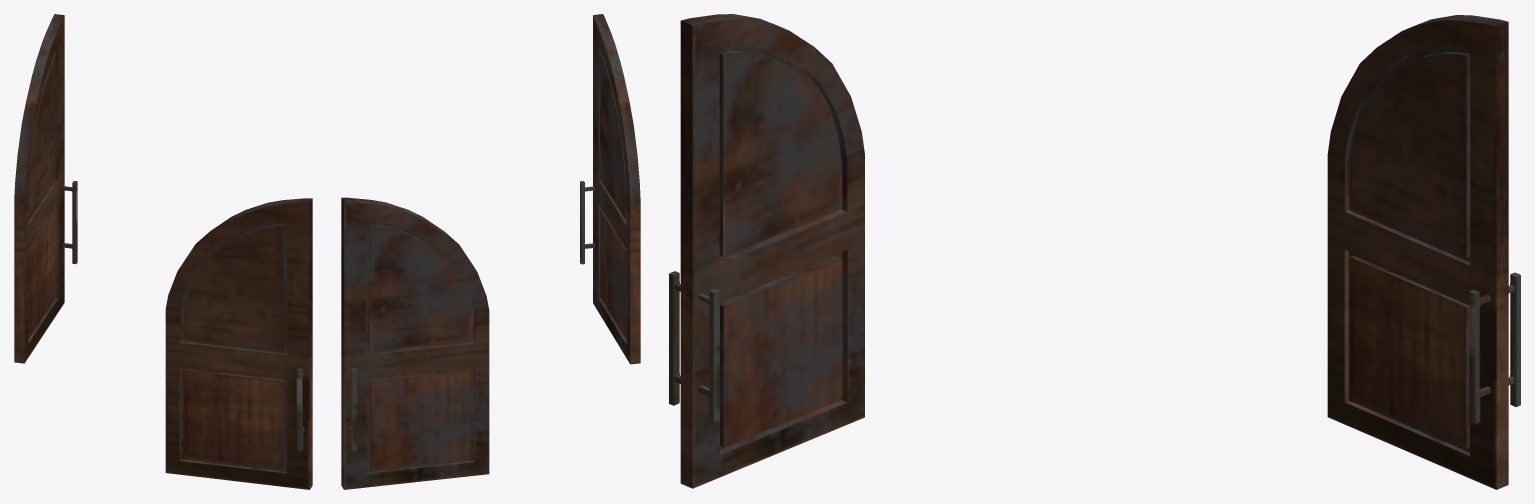
The model's file is Capela Portas .fbx.
The picture shows the model from 3 angles, left to right: view 1: azimuth 30°, elevation 25°; view 2: azimuth 150°, elevation 25°; view 3: azimuth 270°, elevation 25°; orthographic projection. The views are drawn at different scales.
Visible parts, largest first — view 1: Cube.001; view 2: Cube.001; view 3: Cube.001.
Part boxes in pixels (box(x1,y1,x2,y2)): Cube.001: box(14, 14, 312, 489); Cube.001: box(341, 14, 640, 489); Cube.001: box(669, 14, 1520, 489).
Size of the model in its own units: 176 by 459 by 765.
